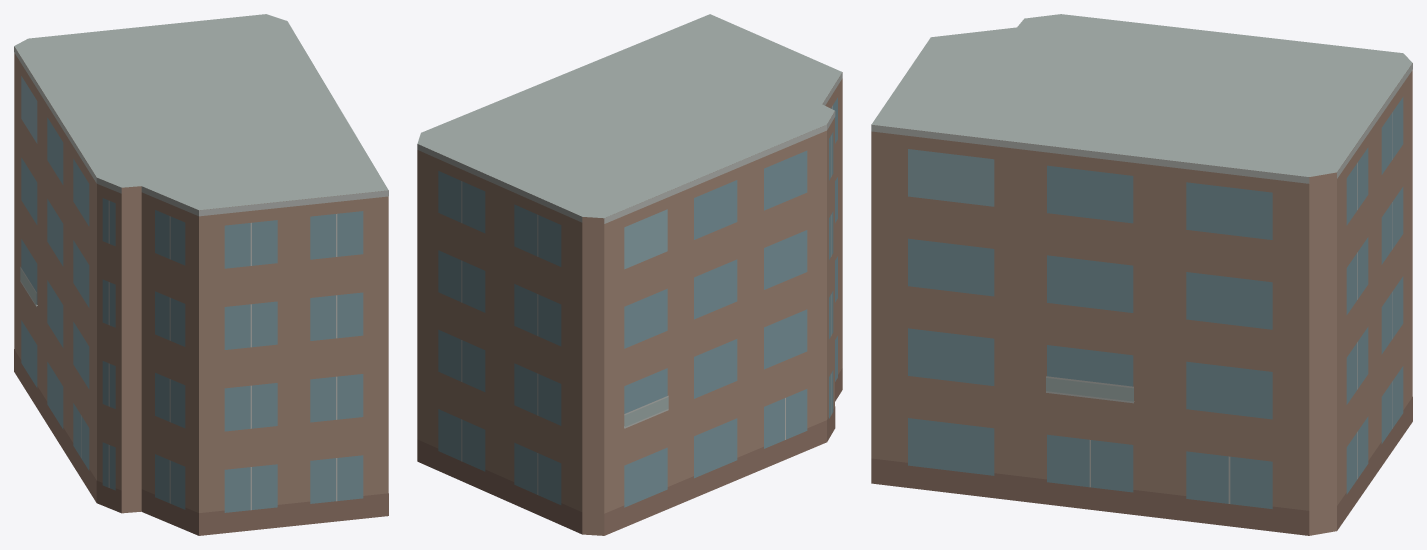
File: survey-upis-32880249.glb
3 views of the same model, side by side, from view 1: azimuth 30°, elevation 25°; view 2: azimuth 150°, elevation 25°; view 3: azimuth 270°, elevation 25° (orthographic). The views are drawn at different scales.
Visible parts, largest first — view 1: survey-upis-32880249.tmp; view 2: survey-upis-32880249.tmp; view 3: survey-upis-32880249.tmp.
Boxes of the visible parts, x1,y1,x2,y2 form: survey-upis-32880249.tmp: (14,14,388,535); survey-upis-32880249.tmp: (417,14,842,535); survey-upis-32880249.tmp: (871,14,1412,535).
Bounding box in the file's own units: 12.69 × 13 × 17.79.
